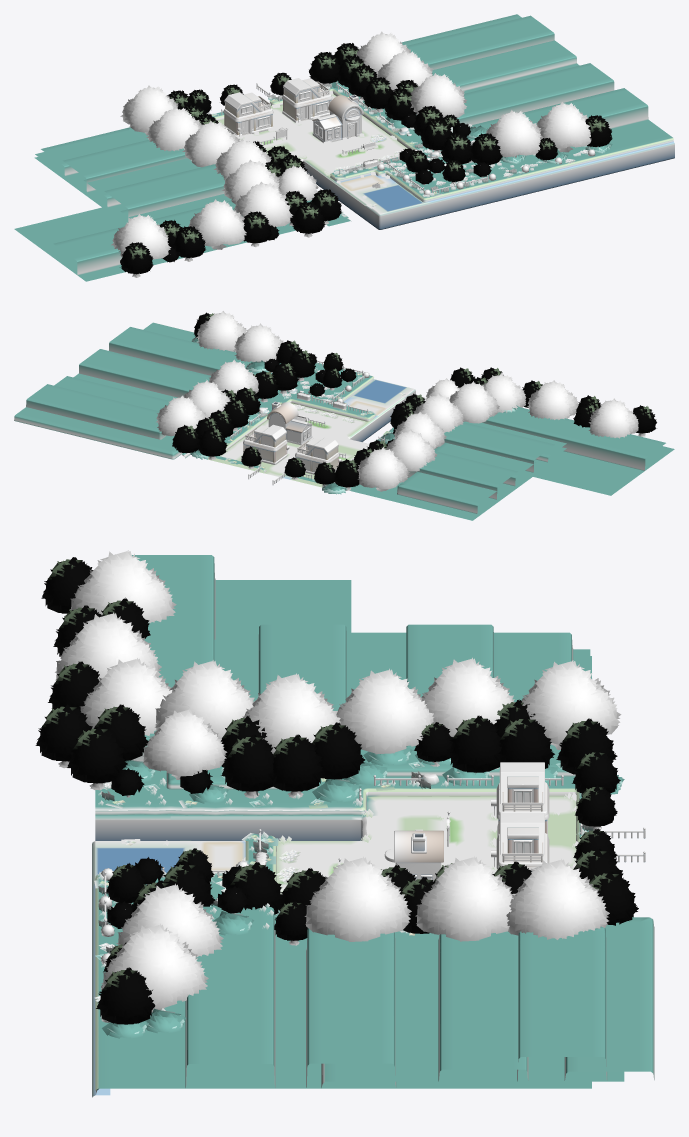
Rendered from pallet-town.glb.
3 renders of one model, top to bottom at view 1: azimuth 30°, elevation 25°; view 2: azimuth 150°, elevation 25°; view 3: azimuth 270°, elevation 25°, orthographic. The views are drawn at different scales.
Visible parts, largest first — view 1: pallet-town; view 2: pallet-town; view 3: pallet-town.
Part boxes in pixels (left/top/right/bottom): pallet-town: left=14, top=14, right=674, bottom=281; pallet-town: left=14, top=311, right=674, bottom=520; pallet-town: left=35, top=550, right=654, bottom=1097.
Size of the model in its own units: 80.01 by 9 by 41.26.
